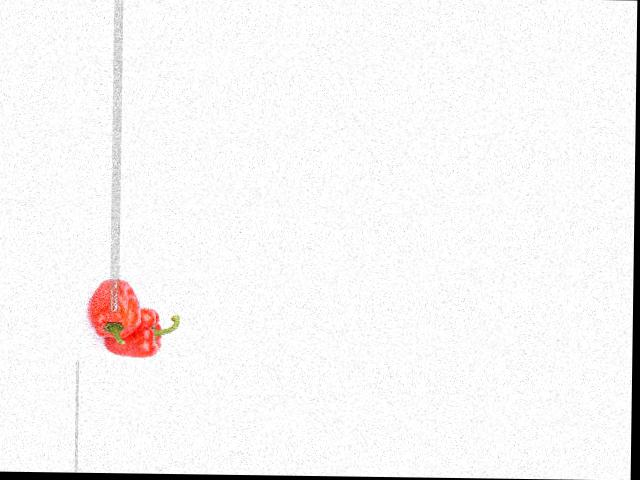bell_pepper: (88, 271, 146, 343)
